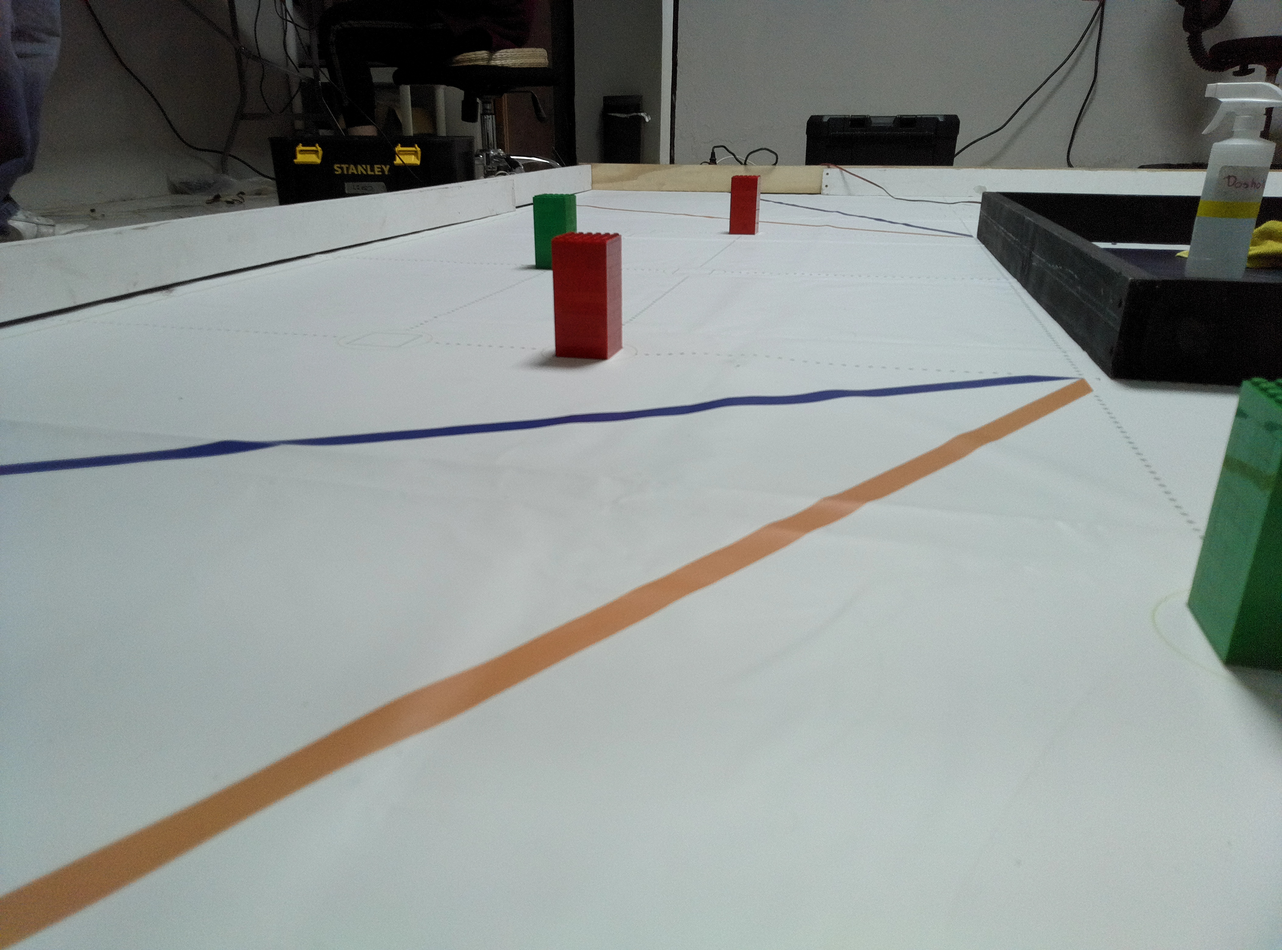greenbox: (1176, 370, 1282, 682), (531, 191, 580, 233), (531, 231, 553, 271)
redbox: (550, 231, 625, 361), (728, 174, 764, 235)
